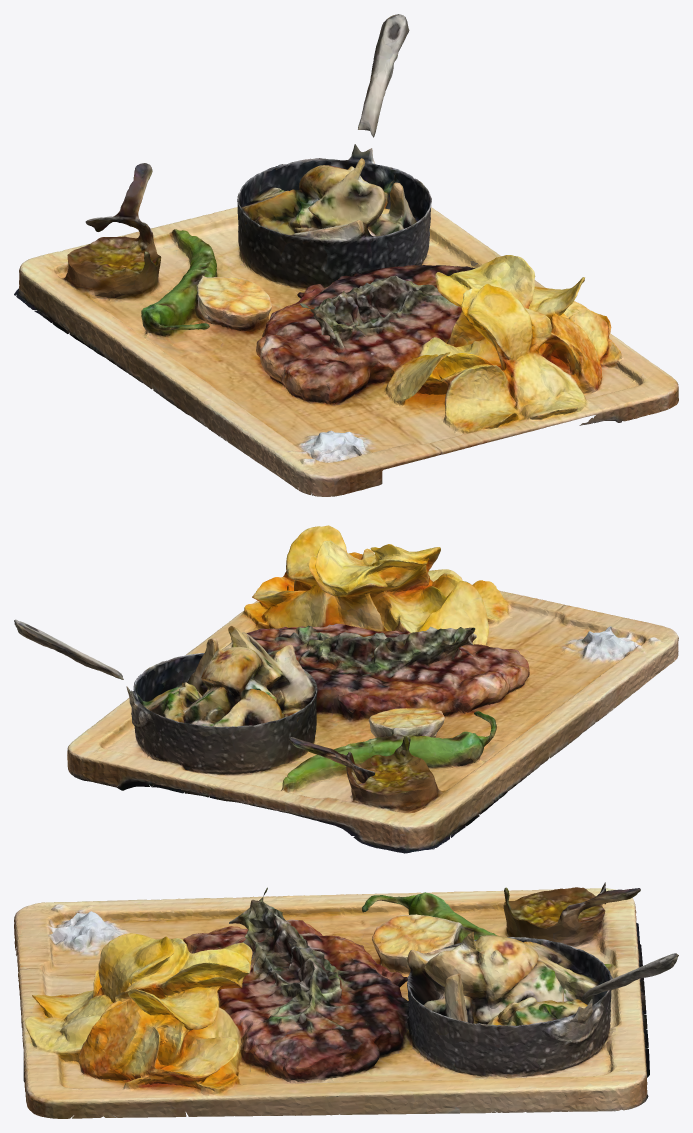
Rendered from antricot-de-vita-wagyu.glb.
3 renders of one model, top to bottom at view 1: azimuth 30°, elevation 25°; view 2: azimuth 150°, elevation 25°; view 3: azimuth 270°, elevation 25°, orthographic. The views are drawn at different scales.
Size of the model in its own units: 0.3013 by 0.1126 by 0.3947.
Materials: 1 (1 with a texture image).
